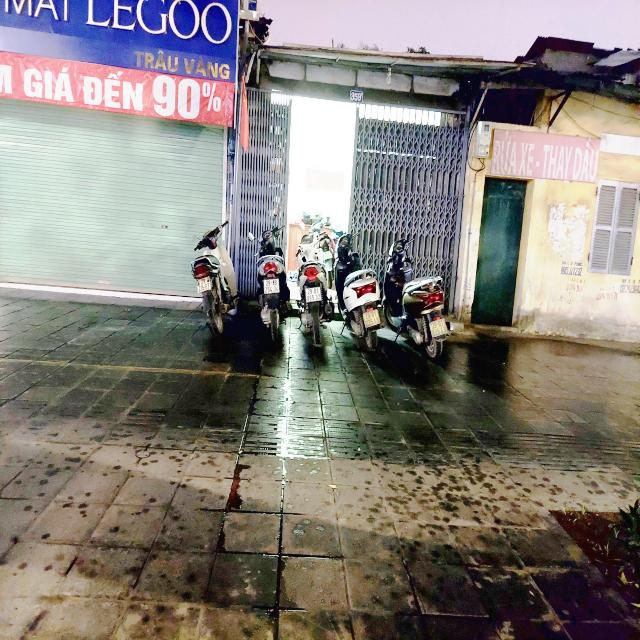license_plate: (429, 318, 449, 339), (363, 309, 382, 329), (264, 279, 281, 295), (306, 287, 323, 303)
